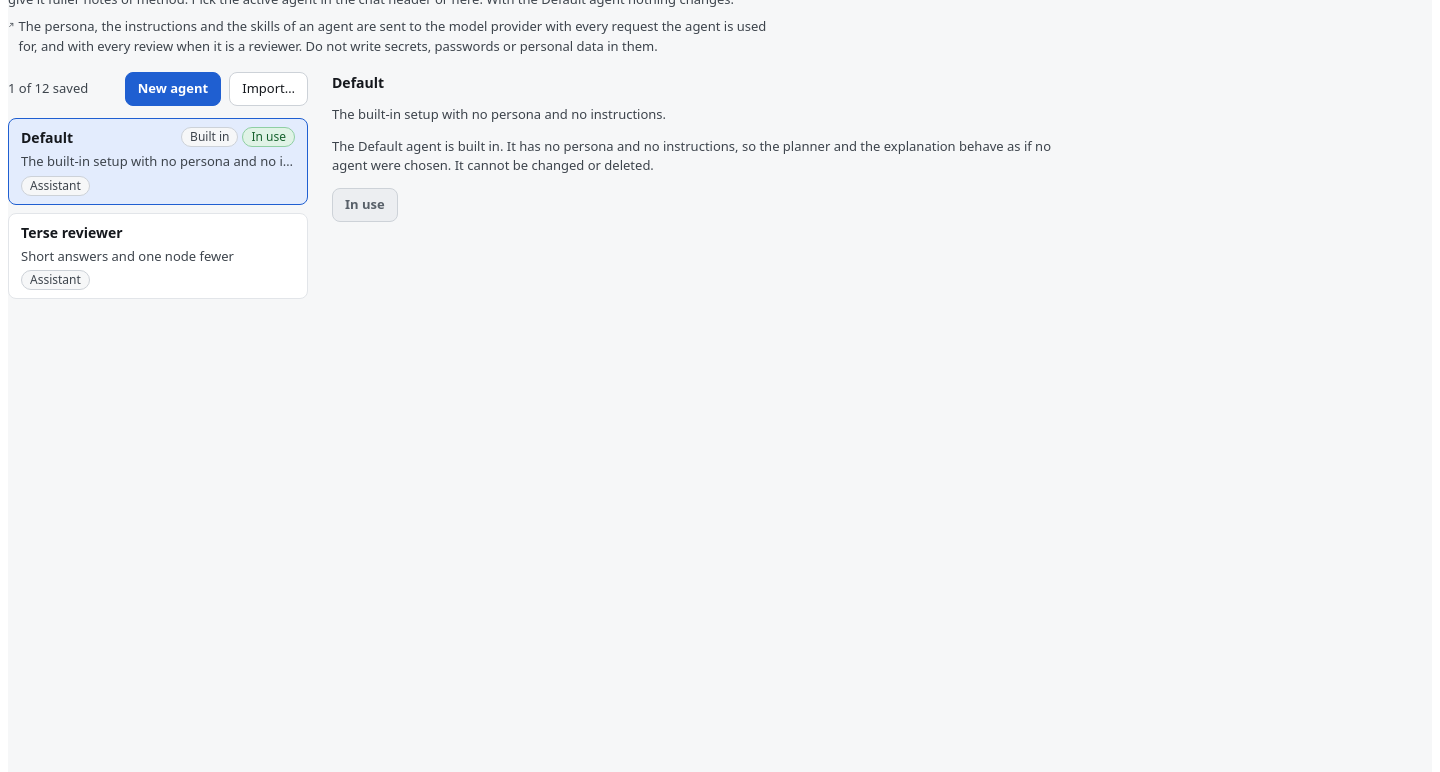
Test: the skills picker › says there are no skills yet when there are none
Expected: the list named "Agent list" is shown, [8, 118, 308, 299]
Click the button "Terse reviewer Short answers and one node fewer Assistant".
click(158, 256)  # box [8, 212, 308, 299]
(page scrolled)
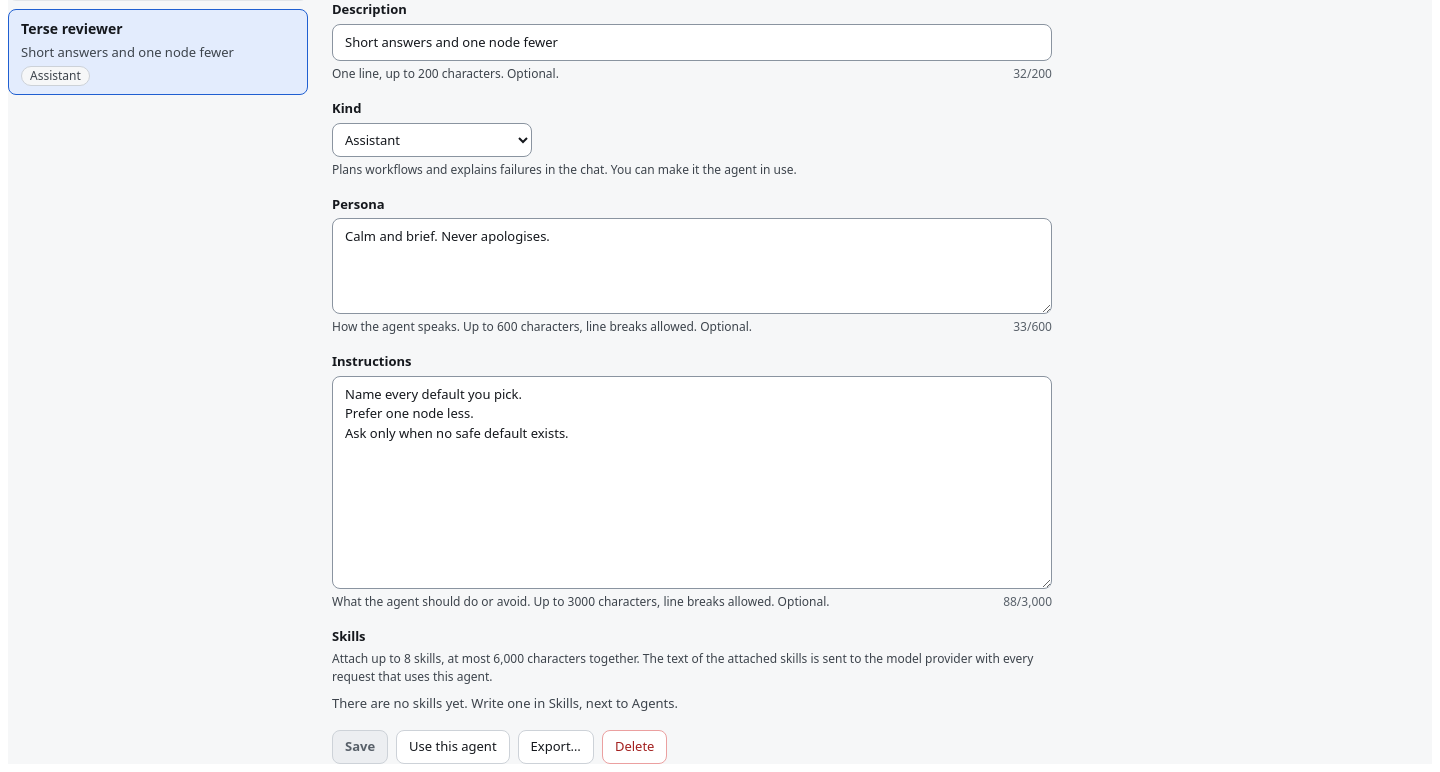
Now the text "There are no skills yet. Write one in Skills, next to Agents." is shown, box [332, 694, 678, 712]
